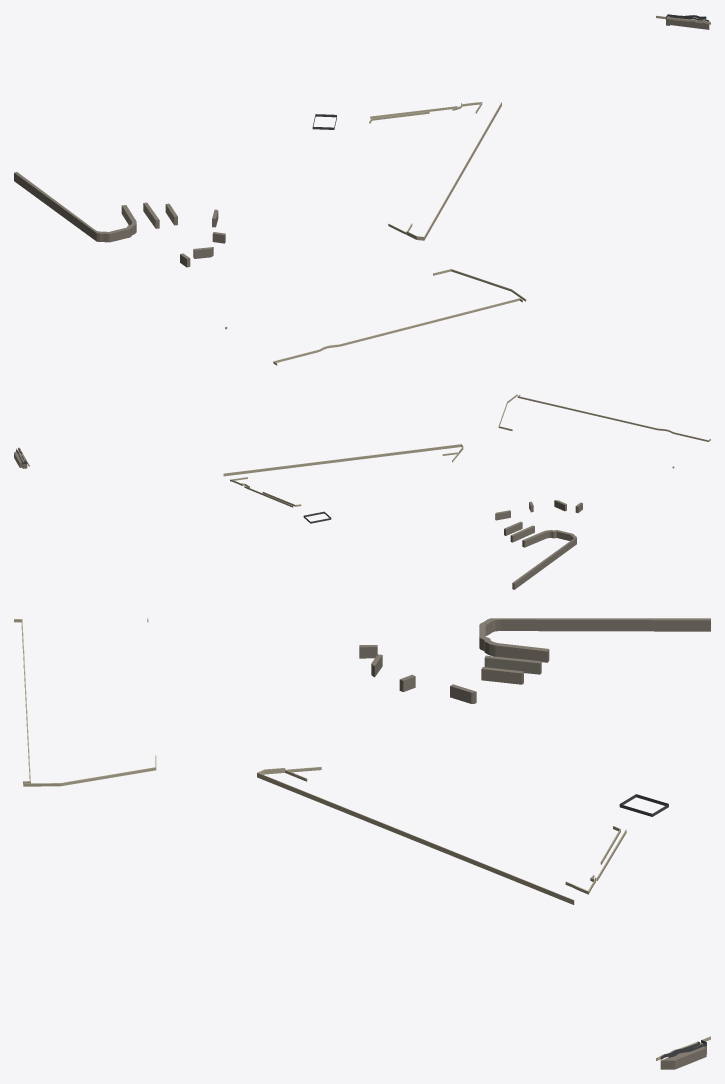
Rendered from walls.glb.
3 renders of one model, top to bottom at view 1: azimuth 30°, elevation 25°; view 2: azimuth 150°, elevation 25°; view 3: azimuth 270°, elevation 25°, orthographic. The views are drawn at different scales.
Parts seen in each view (by area): view 1: T_W2_N3_walls; view 2: T_W2_N3_walls; view 3: T_W2_N3_walls.
Boxes of the visible parts, box(x1,y1,x2,y2) form: T_W2_N3_walls: box(14, 14, 710, 365); T_W2_N3_walls: box(14, 394, 710, 589); T_W2_N3_walls: box(14, 618, 710, 1069).
Bounding box in the file's own units: 500 × 8.1 × 335.
